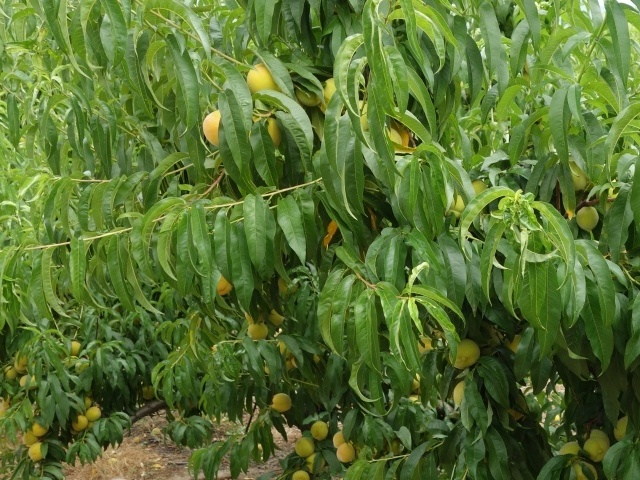peach: (240, 58, 285, 100), (193, 105, 229, 153), (290, 70, 329, 109), (447, 334, 485, 372), (576, 428, 614, 462), (318, 75, 346, 118), (574, 199, 601, 238), (554, 438, 584, 466), (449, 375, 473, 408), (290, 431, 317, 459), (565, 458, 601, 479), (333, 438, 359, 466), (242, 320, 274, 342), (611, 412, 634, 442), (307, 418, 332, 445), (269, 390, 294, 416), (301, 446, 328, 470), (274, 273, 299, 298), (329, 427, 352, 448), (289, 466, 314, 479)
